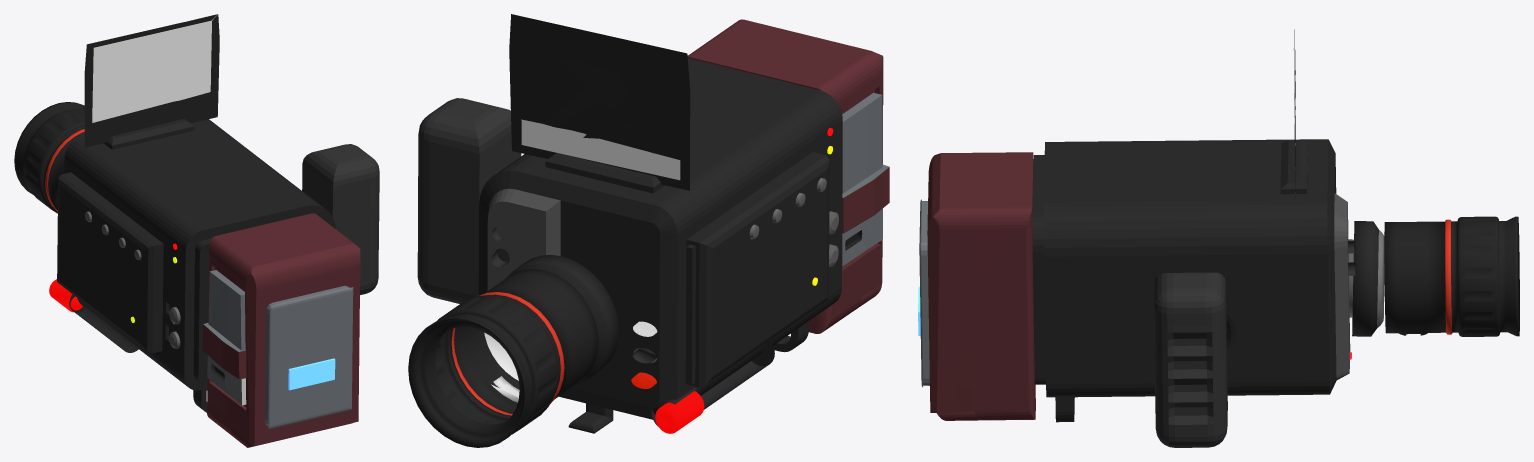
File: video_camera.glb
The picture shows the model from 3 angles, left to right: view 1: azimuth 30°, elevation 25°; view 2: azimuth 150°, elevation 25°; view 3: azimuth 270°, elevation 25°; orthographic projection. The views are drawn at different scales.
Parts seen in each view (by area): view 1: lens.2246, screen, lens.2504, plate; view 2: lens.2246, lens.2504, plate, screen, lens; view 3: lens.2246, lens.2504.
Boxes of the visible parts, x1,y1,x2,y2 form: lens.2246: (57,118,379,447); screen: (92,20,211,122); lens.2504: (14,102,174,324); plate: (84,14,219,147); lens.2246: (417,19,889,433); lens.2504: (408,230,835,447); plate: (509,14,690,190); screen: (521,119,680,180); lens: (484,332,518,380); lens.2246: (918,139,1384,447); lens.2504: (1384,216,1519,336).
Size of the model in its own units: 0.4974 by 0.5384 by 0.847.
